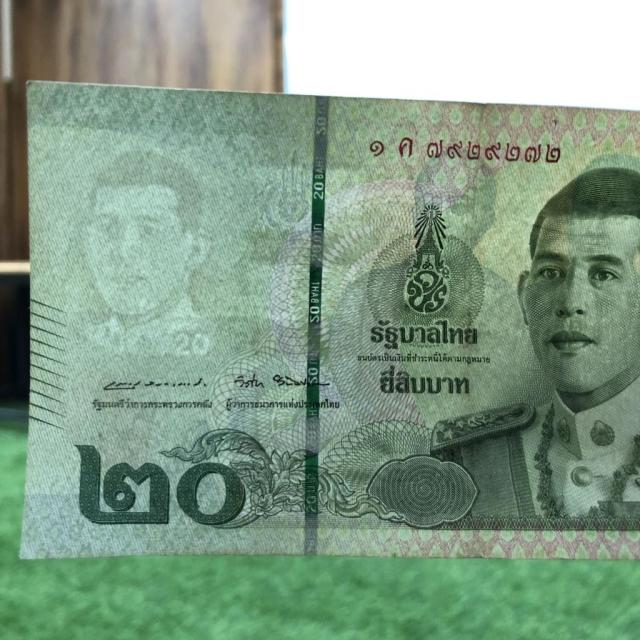THAI20: (21, 82, 639, 558)
